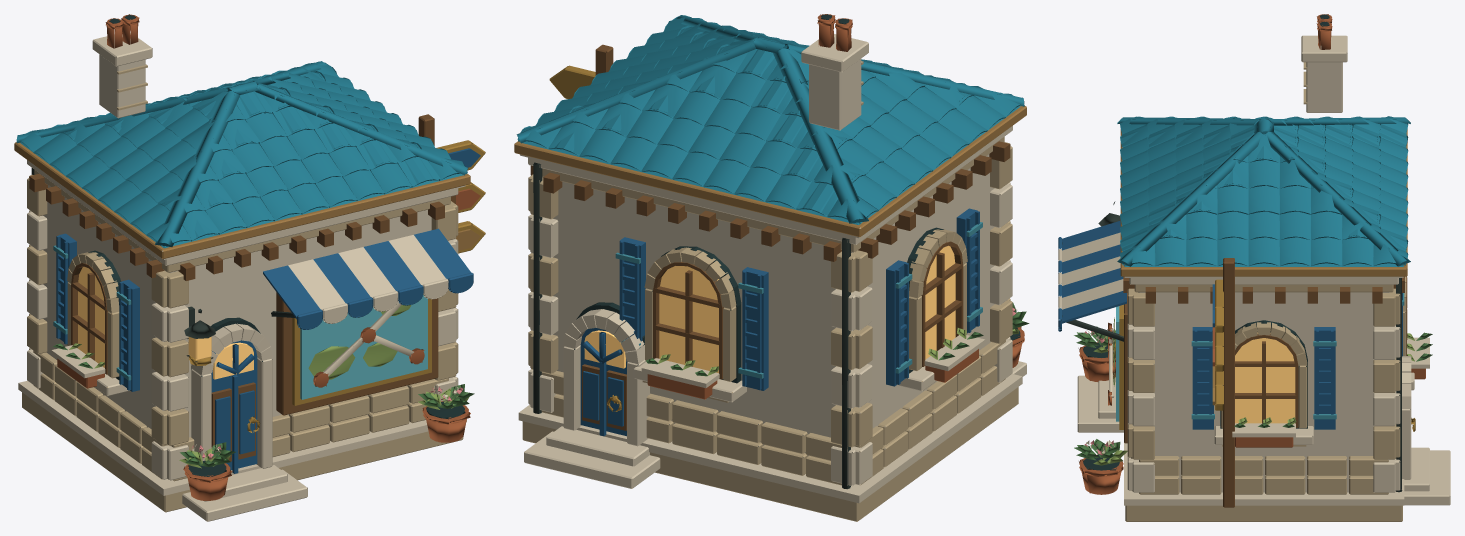
The picture shows the model from 3 angles, left to right: view 1: azimuth 30°, elevation 25°; view 2: azimuth 150°, elevation 25°; view 3: azimuth 270°, elevation 25°; orthographic projection. The views are drawn at different scales.
Parts seen in each view (by area): view 1: harbor_junction_hub_geometry, harbor_junction_hub_geometry ceramic; view 2: harbor_junction_hub_geometry, harbor_junction_hub_geometry ceramic; view 3: harbor_junction_hub_geometry, harbor_junction_hub_geometry ceramic.
Part boxes in pixels (x1=…): harbor_junction_hub_geometry: x1=14, y1=14, x2=485, y2=521; harbor_junction_hub_geometry ceramic: x1=16, y1=61, x2=468, y2=380; harbor_junction_hub_geometry: x1=514, y1=14, x2=1029, y2=521; harbor_junction_hub_geometry ceramic: x1=516, y1=15, x2=1024, y2=378; harbor_junction_hub_geometry: x1=1058, y1=14, x2=1450, y2=521; harbor_junction_hub_geometry ceramic: x1=1117, y1=116, x2=1410, y2=419.
Size of the model in its own units: 1.04 by 1.02 by 0.9257.
